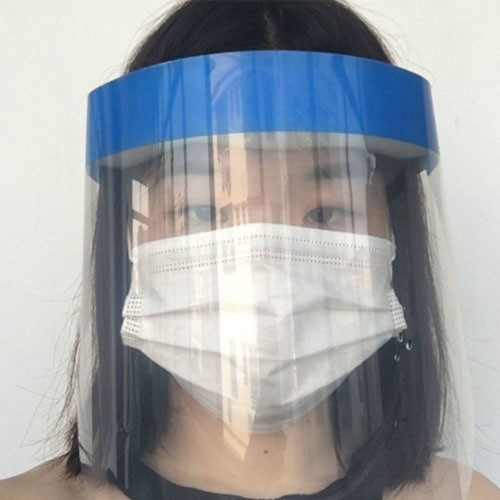face_with_mask: (96, 0, 430, 432)
